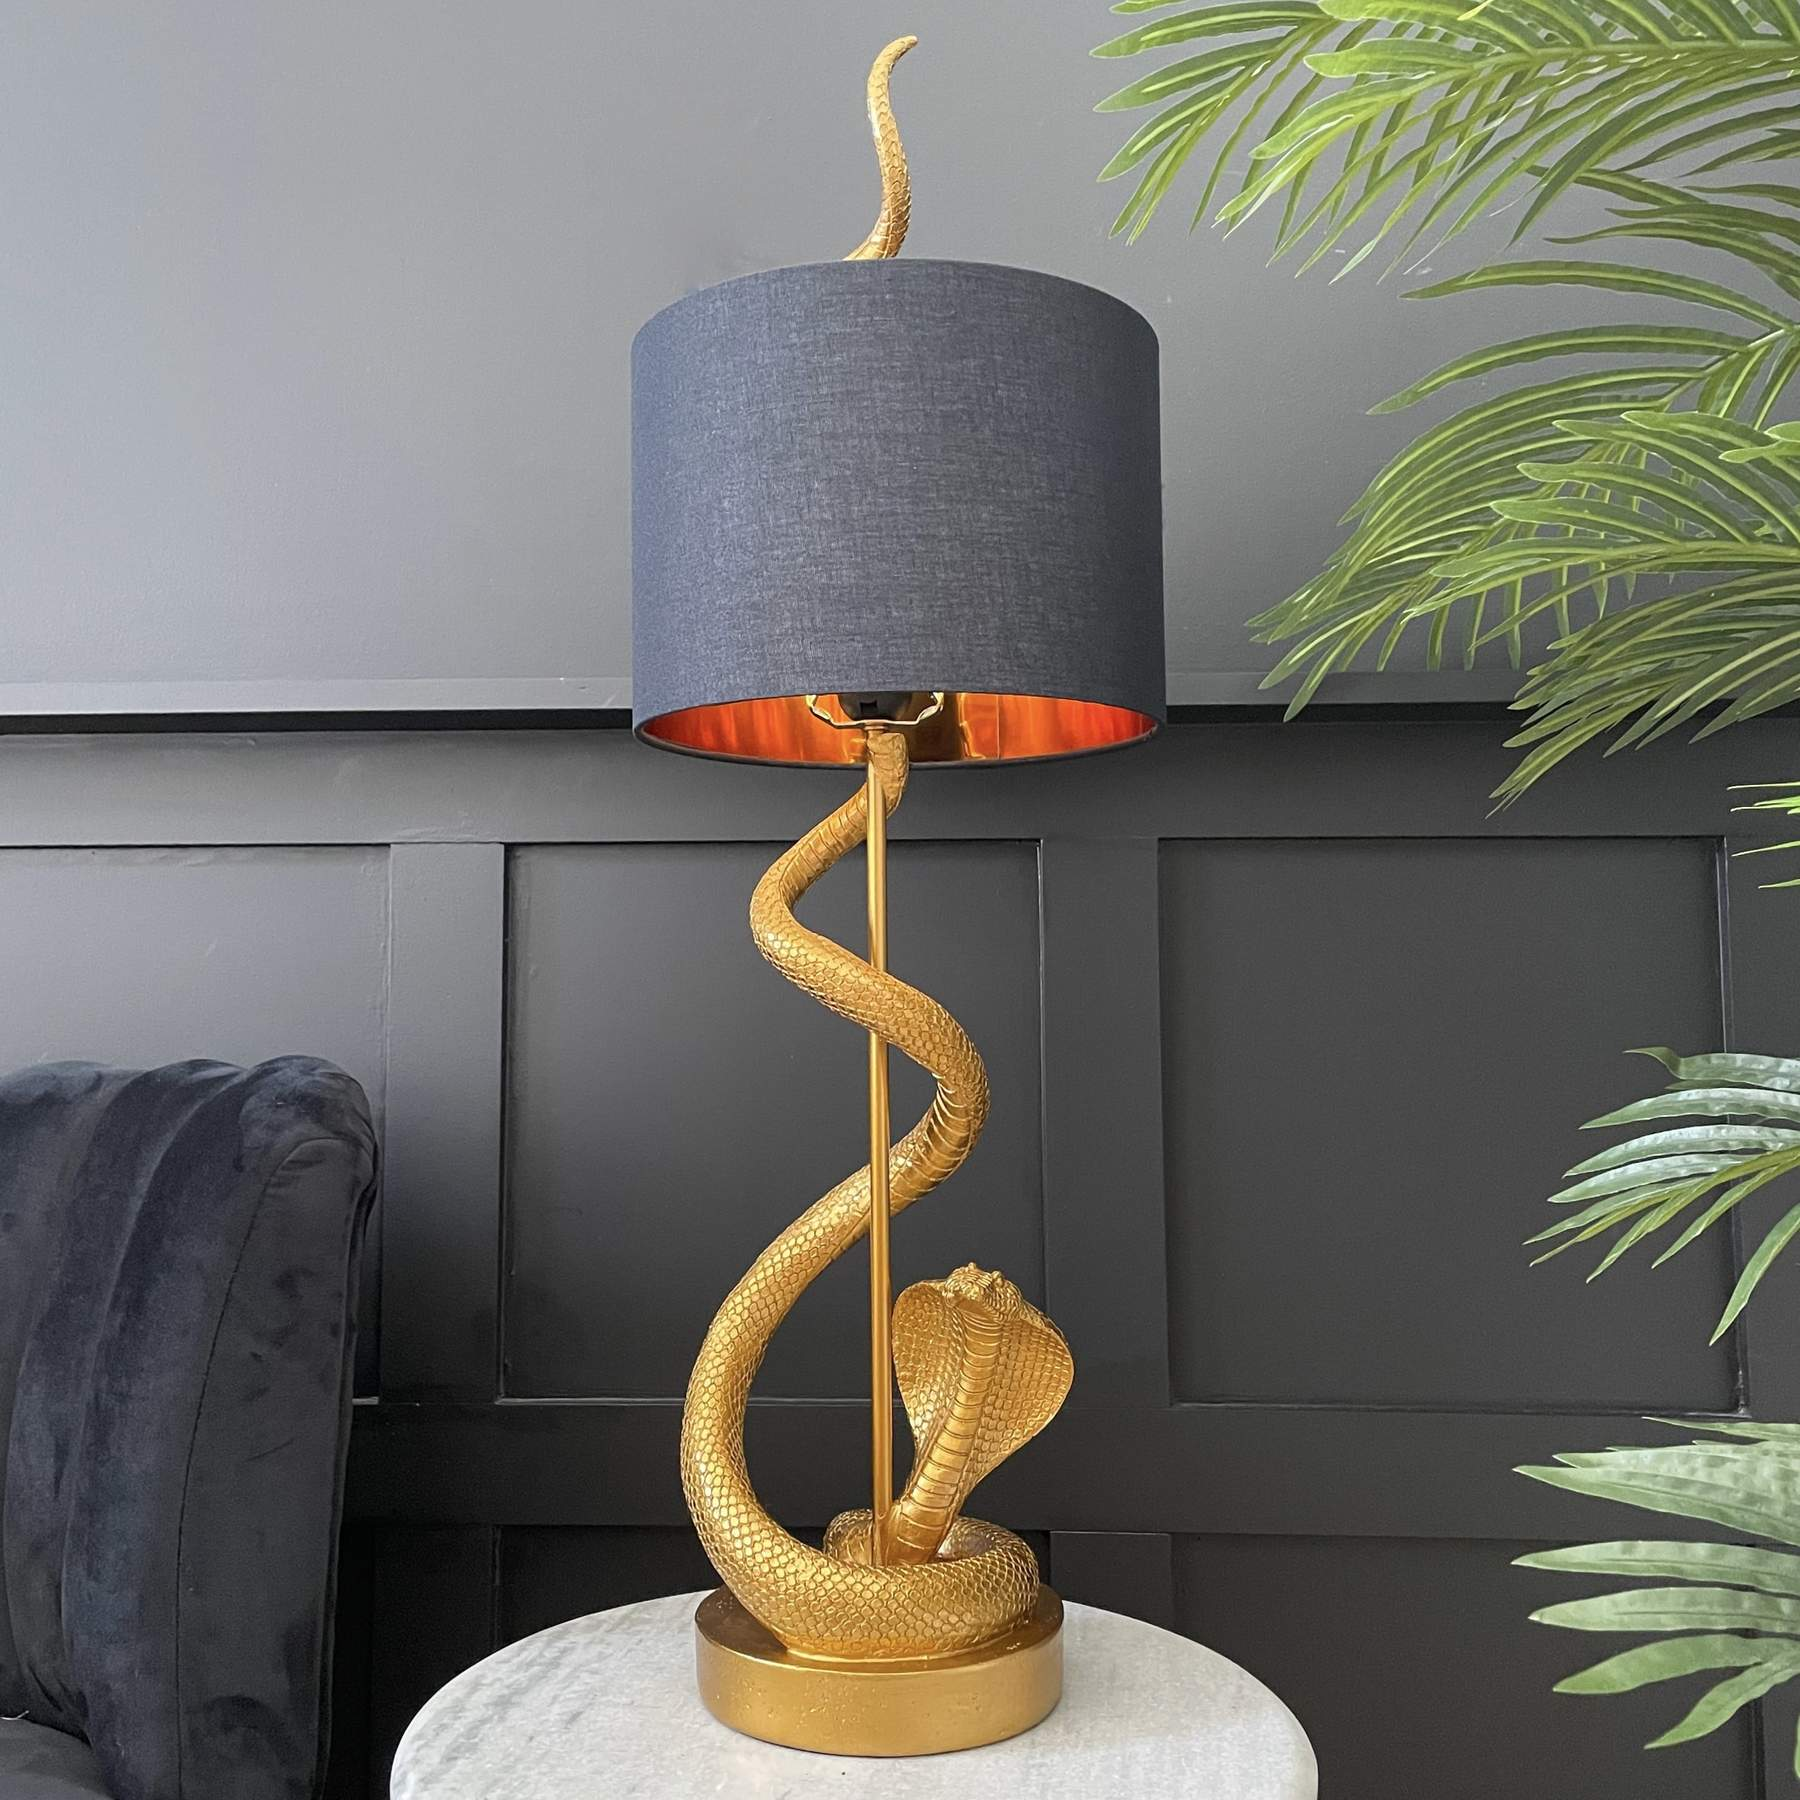lampu: (631, 264, 1155, 1757)
